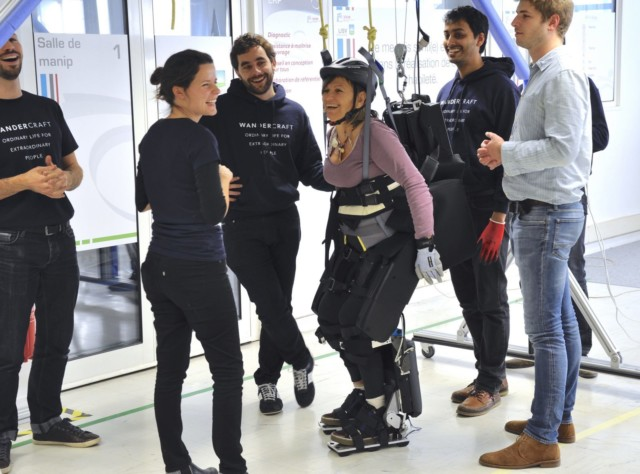feet: (475, 389, 593, 474), (1, 405, 111, 471), (322, 378, 392, 453), (249, 356, 322, 417), (451, 353, 508, 417), (512, 341, 601, 377), (156, 448, 251, 474)
